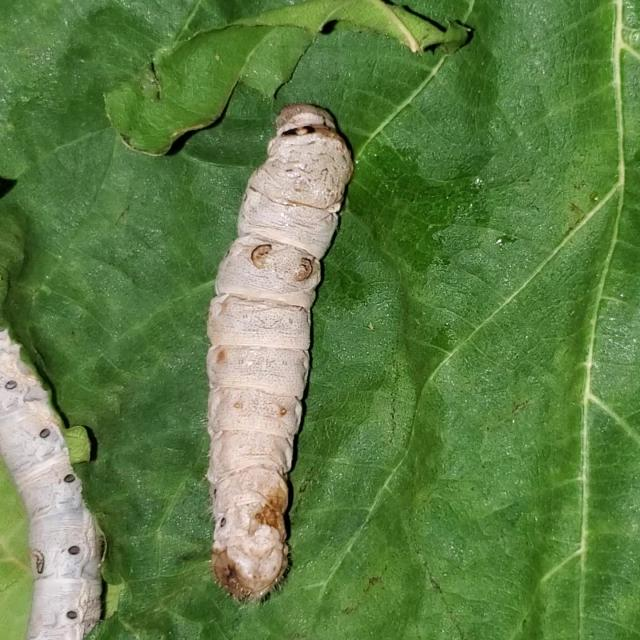Grasserie: (182, 84, 364, 606)
